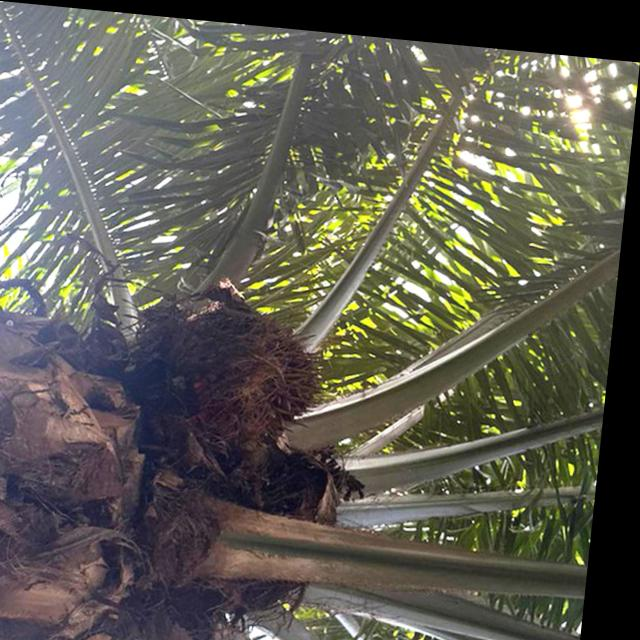ripe: (175, 290, 341, 449)
